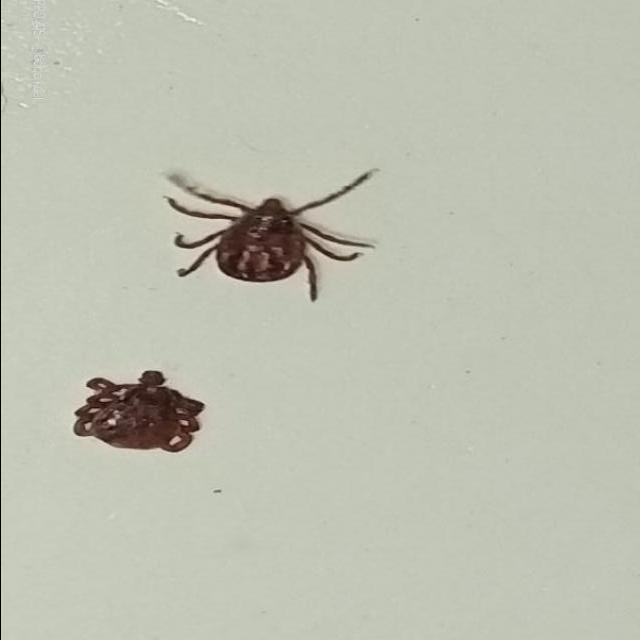Rhipicephalus Sanguineus-M: (165, 168, 376, 301), (69, 368, 203, 454)
